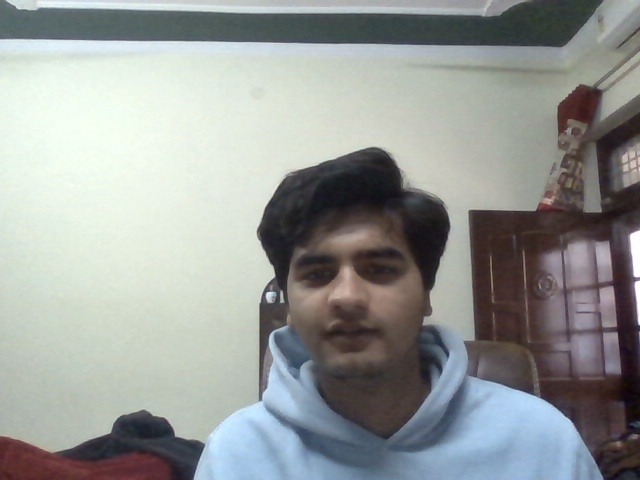surprise: (285, 240, 415, 369)
